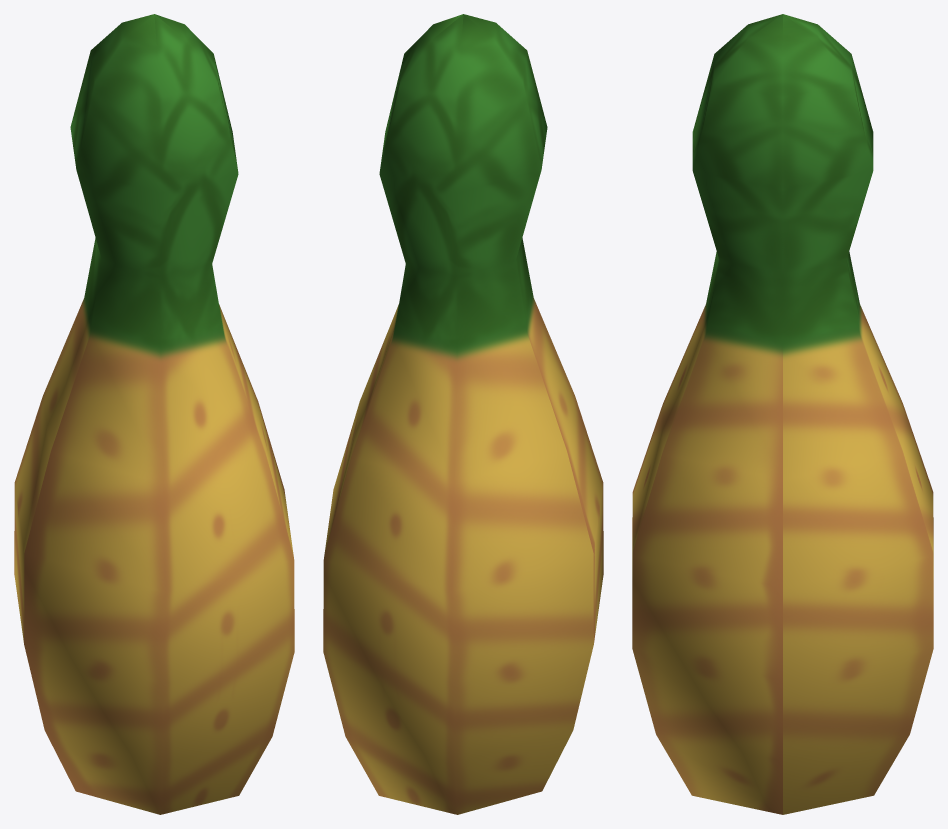
The model's file is pin_pinapple_01.FBX.
The picture shows the model from 3 angles, left to right: view 1: azimuth 30°, elevation 25°; view 2: azimuth 150°, elevation 25°; view 3: azimuth 270°, elevation 25°; orthographic projection.
Visible parts, largest first — view 1: Line001; view 2: Line001; view 3: Line001.
Boxes of the visible parts, x1,y1,x2,y2 form: Line001: (14, 14, 294, 814); Line001: (323, 14, 603, 814); Line001: (632, 14, 933, 814).
Size of the model in its own units: 28.7 by 28.6 by 79.76.
1 material, 1 textured.
